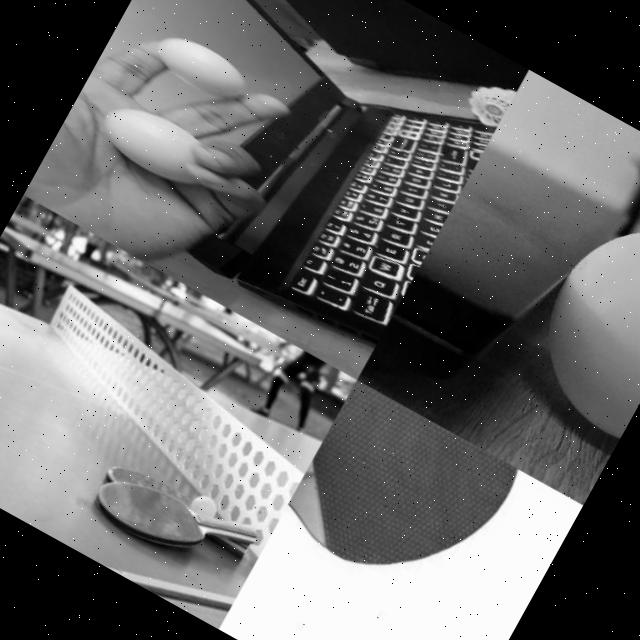ping-pong-ball: (506, 193, 640, 442), (95, 95, 214, 193), (149, 27, 251, 107), (187, 492, 216, 520)
